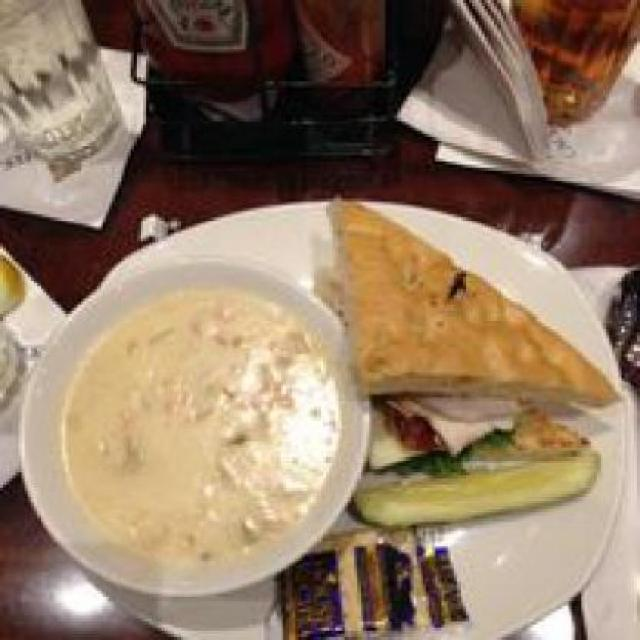clam chowder: (52, 264, 345, 571)
club sandwich: (323, 180, 615, 488)
